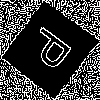P: (24, 24, 81, 78)
